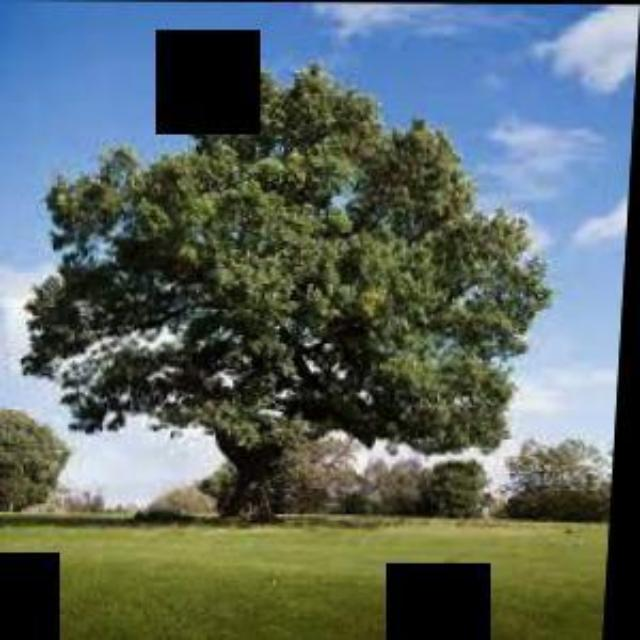tree: (15, 54, 565, 516)
